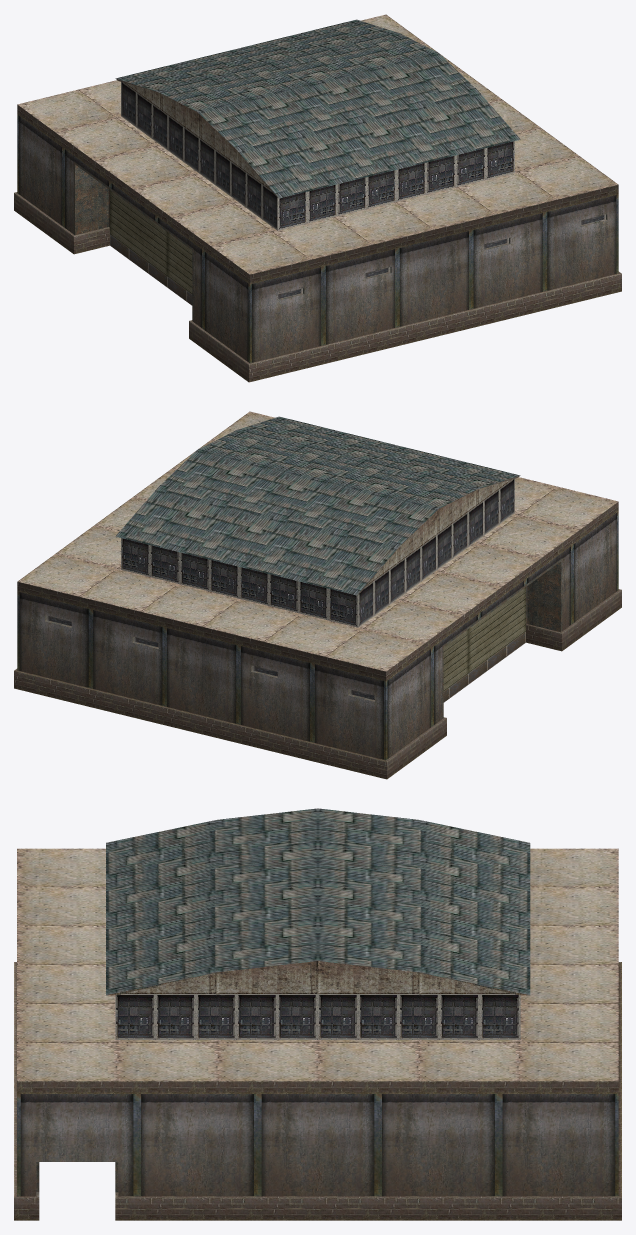
File: M10_Z02Base_27_Garage2.glb
3 renders of one model, top to bottom at view 1: azimuth 30°, elevation 25°; view 2: azimuth 150°, elevation 25°; view 3: azimuth 270°, elevation 25°, orthographic. The views are drawn at different scales.
Visible parts, largest first — view 1: M10_Z02BASE_27_GARAGE2; view 2: M10_Z02BASE_27_GARAGE2; view 3: M10_Z02BASE_27_GARAGE2.
Boxes of the visible parts, box(x1,y1,x2,y2) form: M10_Z02BASE_27_GARAGE2: box(14, 14, 621, 382); M10_Z02BASE_27_GARAGE2: box(14, 411, 621, 779); M10_Z02BASE_27_GARAGE2: box(14, 808, 621, 1220).
Bounding box in the file's own units: 22 × 9.5 × 24.
Materials: 9 (9 with a texture image).
